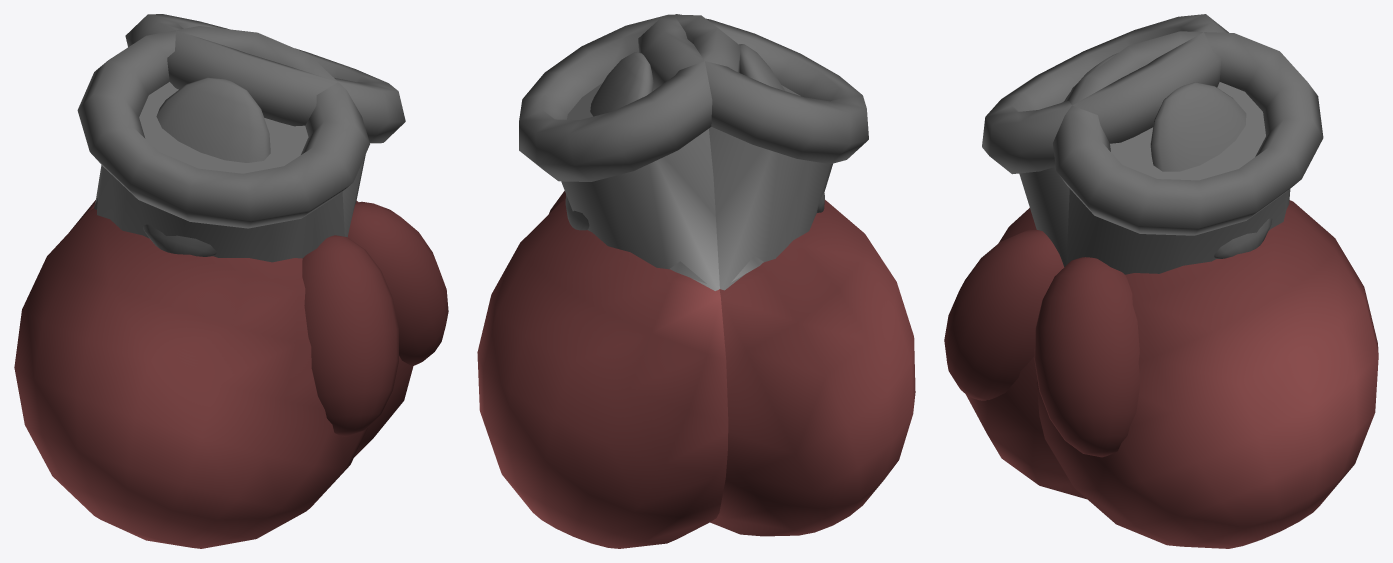
Rendered from gloves_boxing.fbx.
The picture shows the model from 3 angles, left to right: view 1: azimuth 30°, elevation 25°; view 2: azimuth 150°, elevation 25°; view 3: azimuth 270°, elevation 25°; orthographic projection. The views are drawn at different scales.
Parts seen in each view (by area): view 1: GloveL, GloveR; view 2: GloveR, GloveL; view 3: GloveR, GloveL.
Boxes of the visible parts, x1,y1,x2,y2 form: GloveL: [14, 14, 405, 548]; GloveR: [70, 26, 448, 457]; GloveR: [477, 14, 868, 548]; GloveL: [519, 14, 915, 536]; GloveR: [982, 14, 1378, 548]; GloveL: [944, 31, 1323, 499].
Size of the model in its own units: 0.5471 by 0.6629 by 0.5556.
